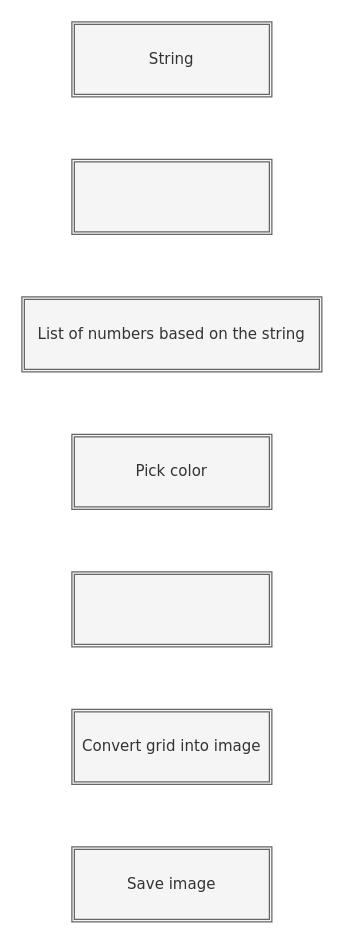
Image size: 344x944. Some labels were removed from this diagram. Each missing label, with the centre of its shape:
Build grid of squares: [171,609]
Compute MD5 hash: [171,196]
